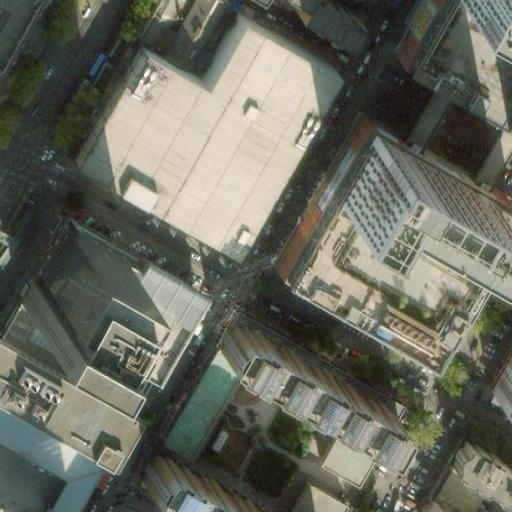building: (67, 17, 324, 263), (259, 169, 502, 365), (206, 316, 388, 439), (315, 113, 478, 224), (70, 245, 201, 375), (12, 212, 116, 327), (131, 448, 270, 512), (155, 348, 233, 455), (437, 436, 512, 507), (309, 418, 370, 480), (423, 464, 478, 512), (478, 37, 512, 113), (280, 481, 339, 512), (482, 356, 512, 398), (410, 490, 461, 512)
